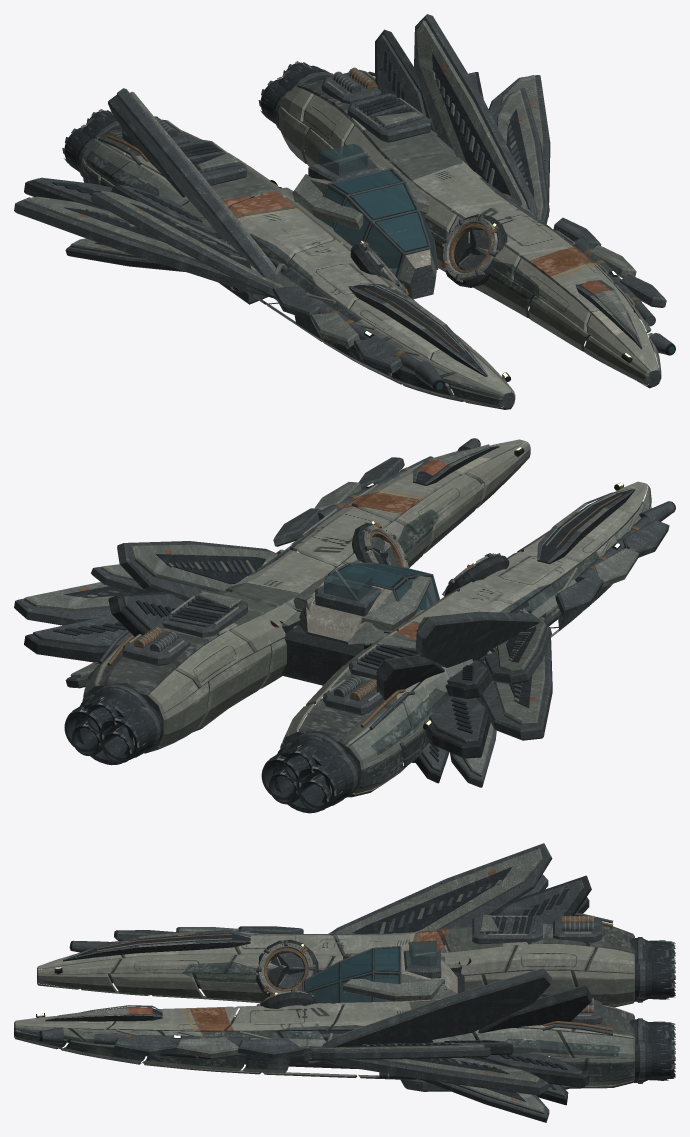
File: convoy.glb
The picture shows the model from 3 angles, top to bottom: view 1: azimuth 30°, elevation 25°; view 2: azimuth 150°, elevation 25°; view 3: azimuth 270°, elevation 25°; orthographic projection. The views are drawn at different scales.
Parts seen in each view (by area): view 1: convoy-hull-lance-starboard, convoy-hull-lance-port, convoy-vane-folded-starboard, convoy-bridge-gangway, convoy-vane-cascade-port, convoy-vane-swept-port, convoy-bridge-lantern, convoy-vane-folded-port, convoy-hull-mantle-port, convoy-vane-cascade-starboard, convoy-bridge-armoured, convoy-hull-mantle-starboard (+6 smaller); view 2: convoy-hull-lance-starboard, convoy-hull-lance-port, convoy-vane-folded-starboard, convoy-bridge-gangway, convoy-vane-swept-port, convoy-vane-folded-port, convoy-vane-swept-starboard, convoy-vane-cascade-port, convoy-bridge-lantern, convoy-hull-mantle-port, convoy-drive-duplex-port, convoy-drive-duplex-starboard (+9 smaller); view 3: convoy-hull-lance-port, convoy-hull-lance-starboard, convoy-vane-folded-port, convoy-vane-folded-starboard, convoy-vane-swept-starboard, convoy-vane-cascade-starboard, convoy-bridge-gangway, convoy-bridge-lantern, convoy-hull-mantle-starboard, convoy-bridge-armoured, convoy-drive-duplex-starboard, convoy-drive-duplex-port (+4 smaller).
Boxes of the visible parts, x1,y1,x2,y2 form: convoy-hull-lance-starboard: (279, 67, 675, 388); convoy-hull-lance-port: (82, 116, 515, 409); convoy-vane-folded-starboard: (375, 14, 538, 217); convoy-bridge-gangway: (250, 157, 446, 299); convoy-vane-cascade-port: (65, 185, 283, 298); convoy-vane-swept-port: (14, 177, 283, 298); convoy-bridge-lantern: (308, 144, 436, 274); convoy-vane-folded-port: (108, 88, 279, 283); convoy-hull-mantle-port: (272, 286, 442, 389); convoy-vane-cascade-starboard: (493, 88, 549, 223); convoy-bridge-armoured: (292, 161, 429, 229); convoy-hull-mantle-starboard: (553, 217, 674, 353); convoy-hull-lance-starboard: (82, 438, 530, 753); convoy-hull-lance-port: (280, 481, 675, 797); convoy-vane-folded-starboard: (108, 541, 277, 636); convoy-bridge-gangway: (250, 562, 439, 685); convoy-vane-swept-port: (425, 618, 552, 758); convoy-vane-folded-port: (376, 611, 540, 699); convoy-vane-swept-starboard: (14, 582, 134, 662); convoy-vane-cascade-port: (414, 617, 551, 787); convoy-bridge-lantern: (315, 564, 438, 616); convoy-hull-mantle-port: (555, 516, 669, 616); convoy-drive-duplex-port: (261, 742, 362, 808); convoy-drive-duplex-starboard: (64, 694, 166, 760); convoy-hull-lance-port: (37, 913, 634, 1007); convoy-hull-lance-starboard: (14, 989, 634, 1091); convoy-vane-folded-port: (329, 843, 591, 943); convoy-vane-folded-starboard: (304, 968, 591, 1060); convoy-vane-swept-starboard: (307, 1046, 589, 1095); convoy-vane-cascade-starboard: (311, 1040, 568, 1122); convoy-bridge-gangway: (297, 945, 464, 1011); convoy-bridge-lantern: (305, 940, 441, 1007); convoy-hull-mantle-starboard: (39, 1029, 303, 1058); convoy-bridge-armoured: (343, 952, 444, 1001); convoy-drive-duplex-starboard: (624, 1025, 675, 1079); convoy-drive-duplex-port: (623, 944, 675, 998).
Size of the model in its own units: 7.74 by 2.3 by 9.93.
Materials: 16 (11 with a texture image).
